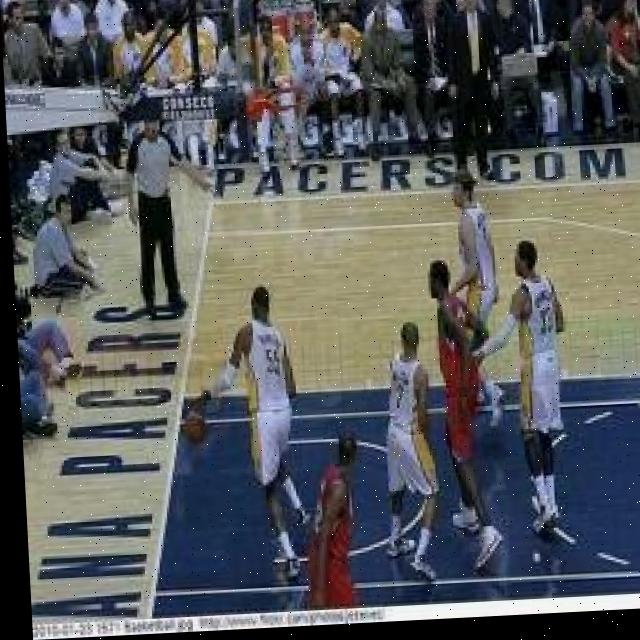basketball: (178, 403, 212, 447)
hoop: (264, 83, 316, 170)
